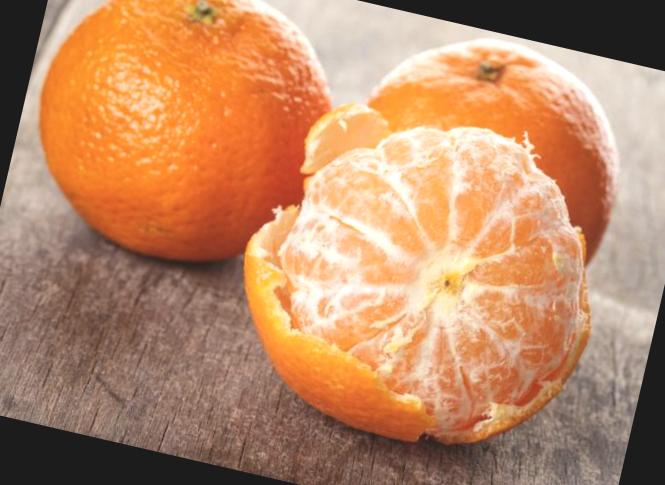Orange Ripe: (225, 64, 638, 457), (10, 0, 357, 286)
